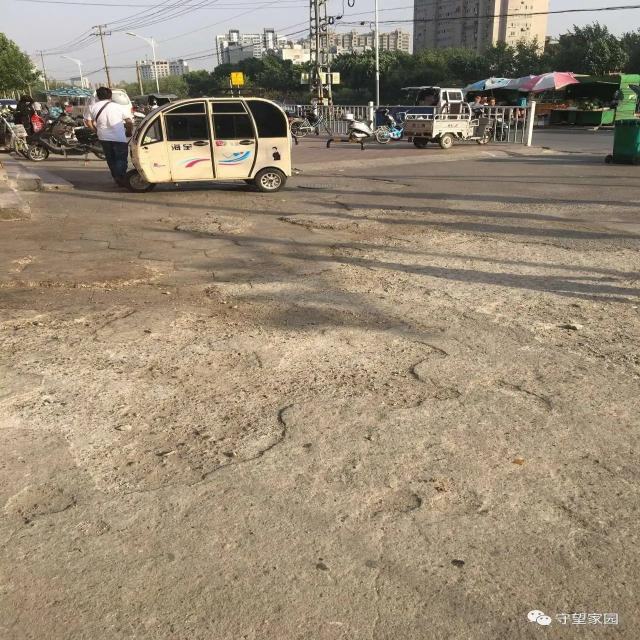Pothole: (24, 284, 462, 488), (266, 220, 640, 372)
